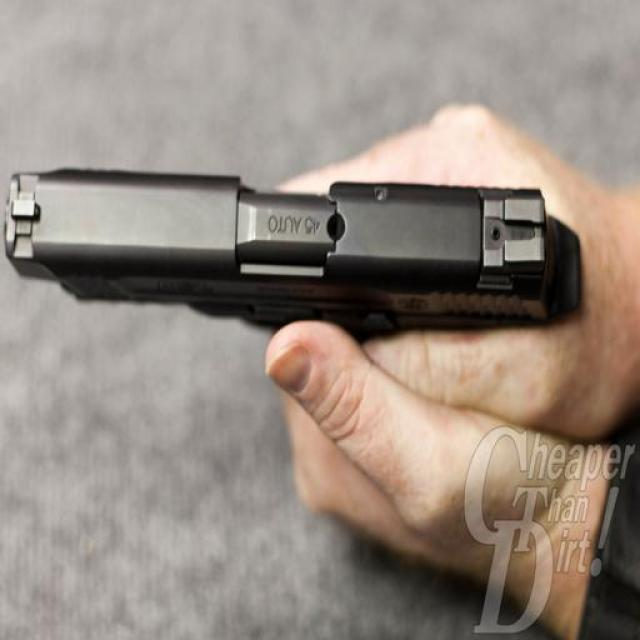pistol: (5, 141, 560, 362)
